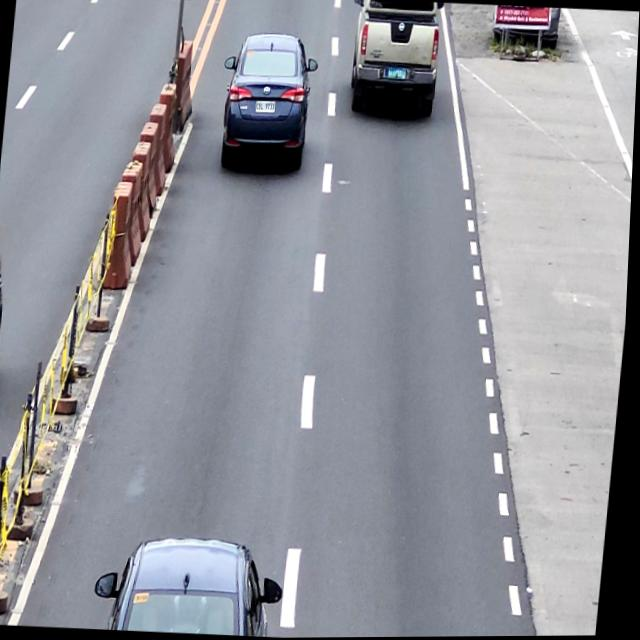Car: (97, 534, 293, 639), (218, 31, 321, 173), (344, 0, 447, 118)
License-Plate: (256, 100, 277, 113), (389, 68, 408, 81)
